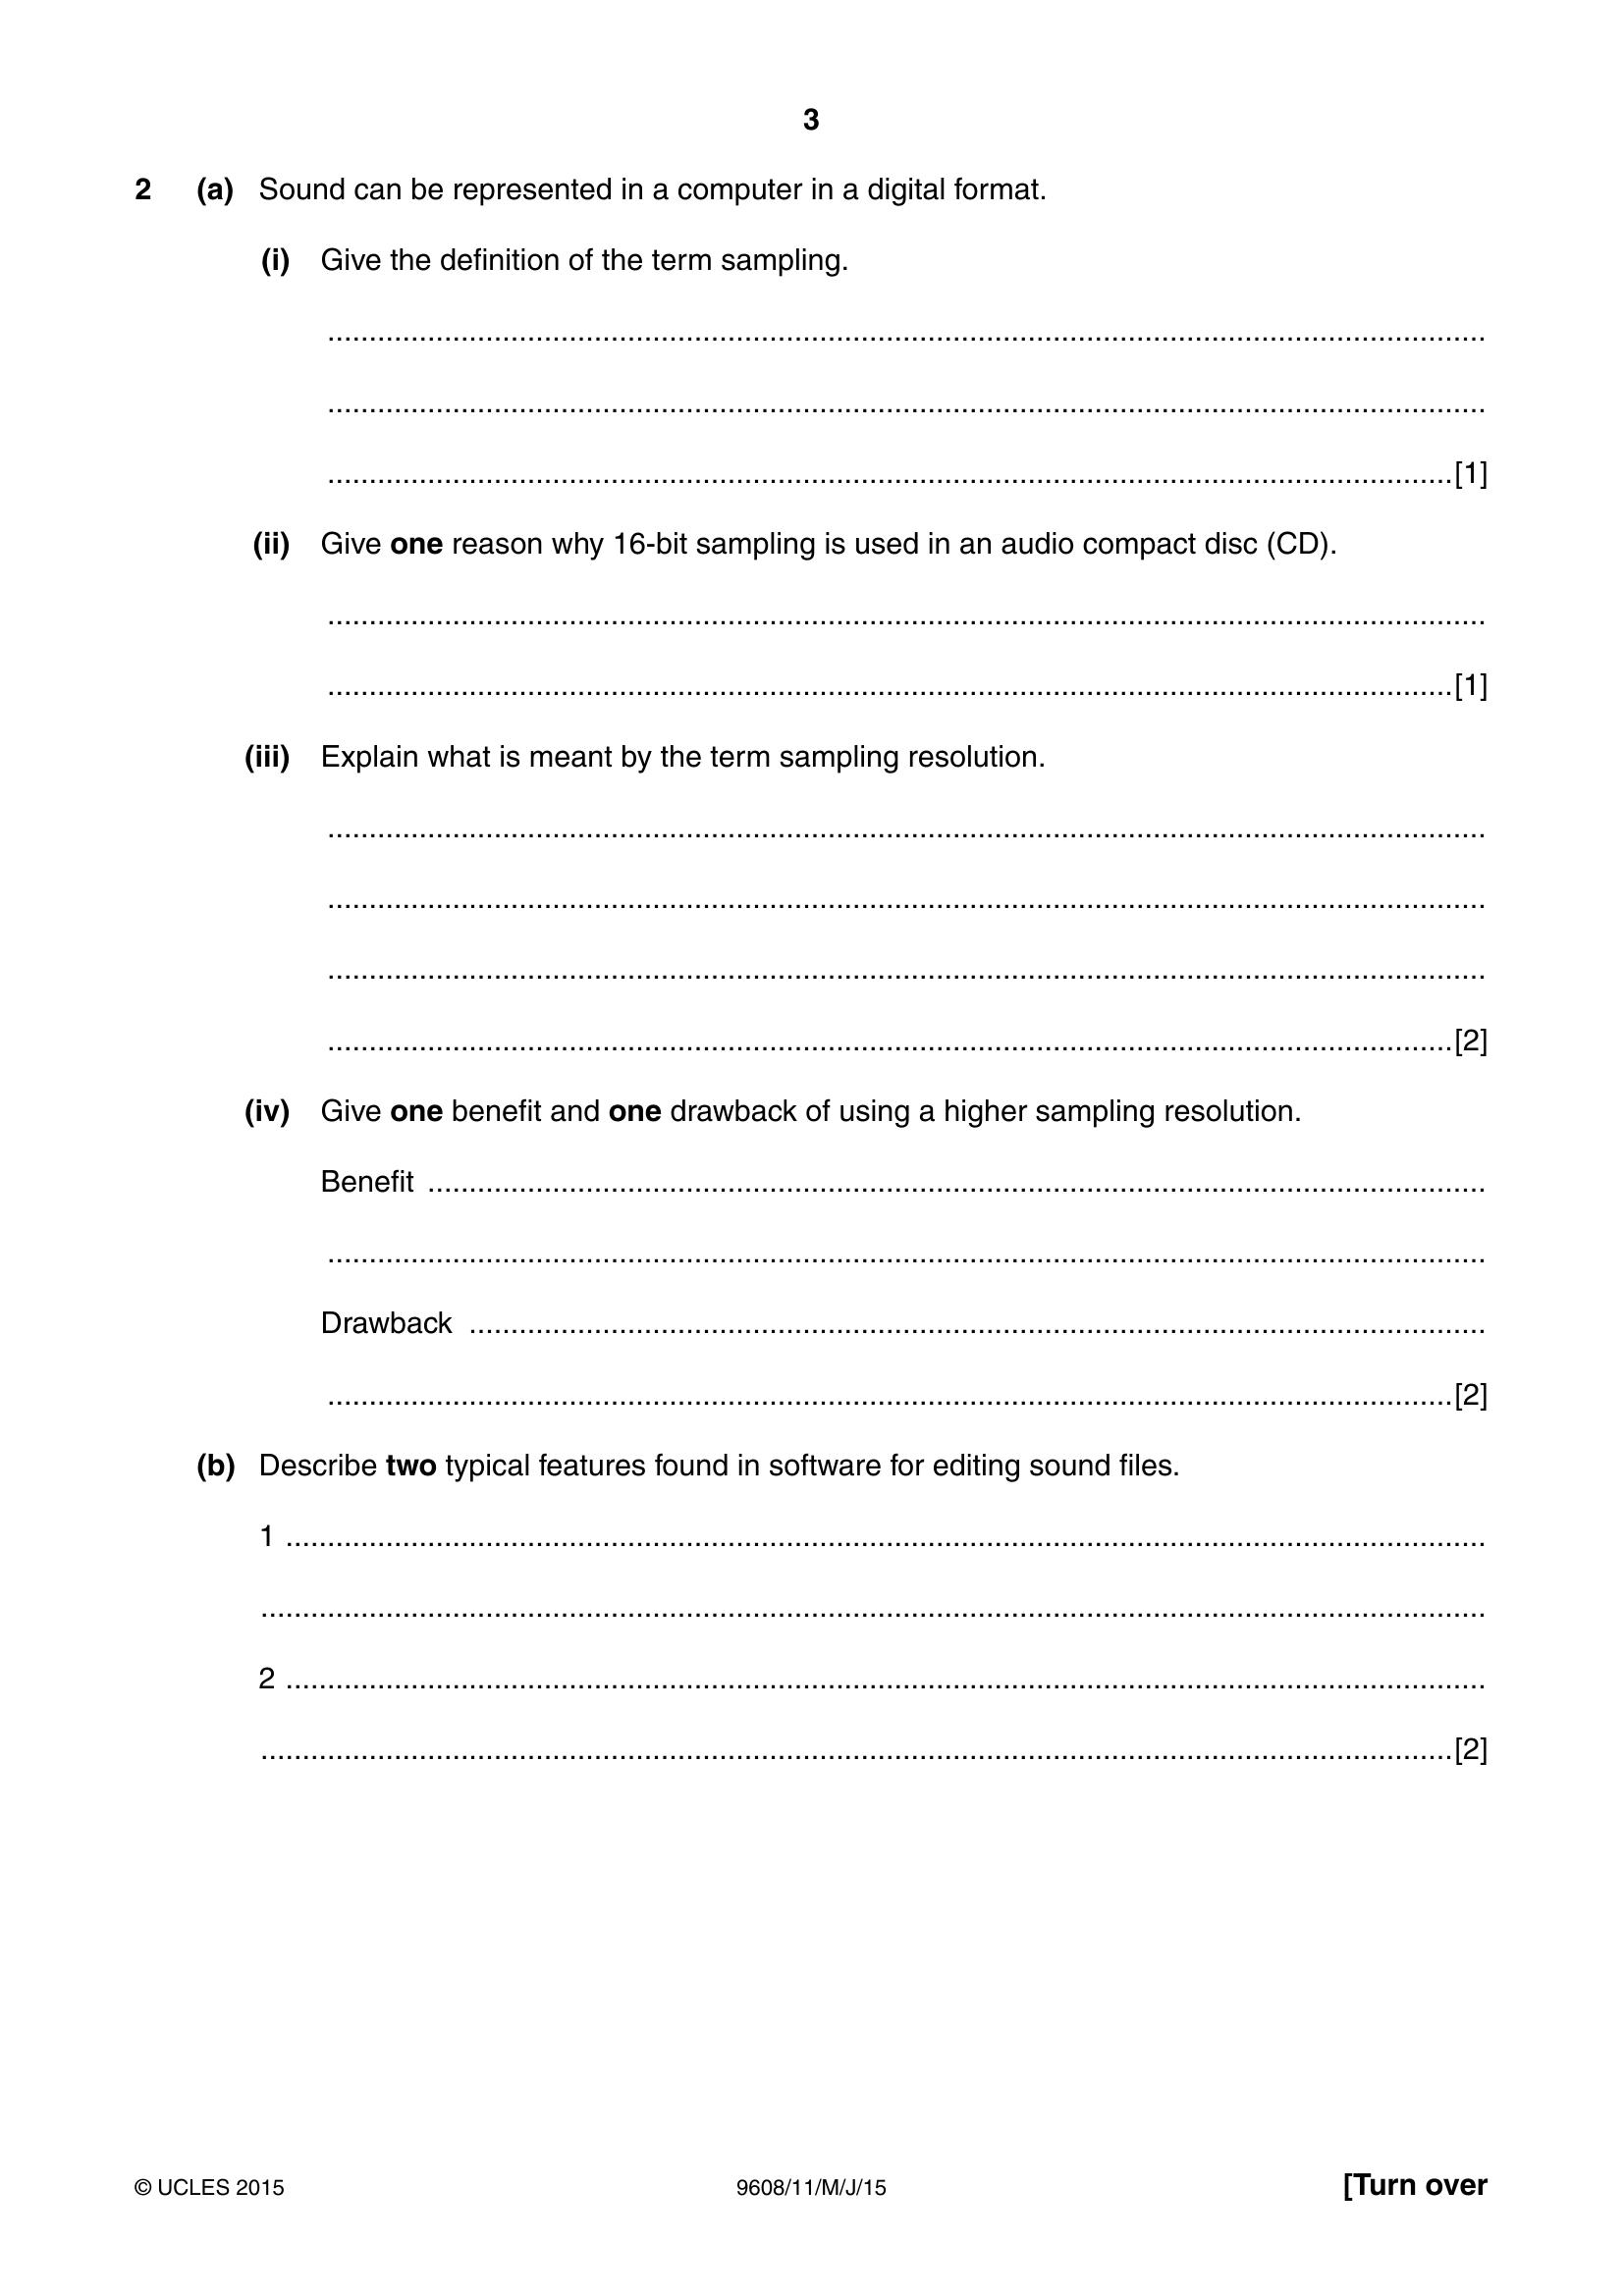question: (4, 149, 1622, 1811)
